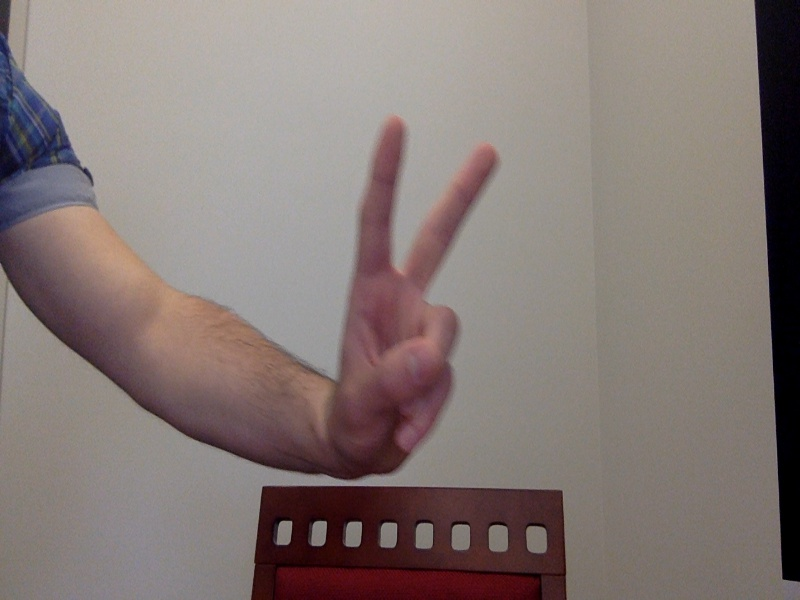2-hand: (347, 115, 503, 475)
